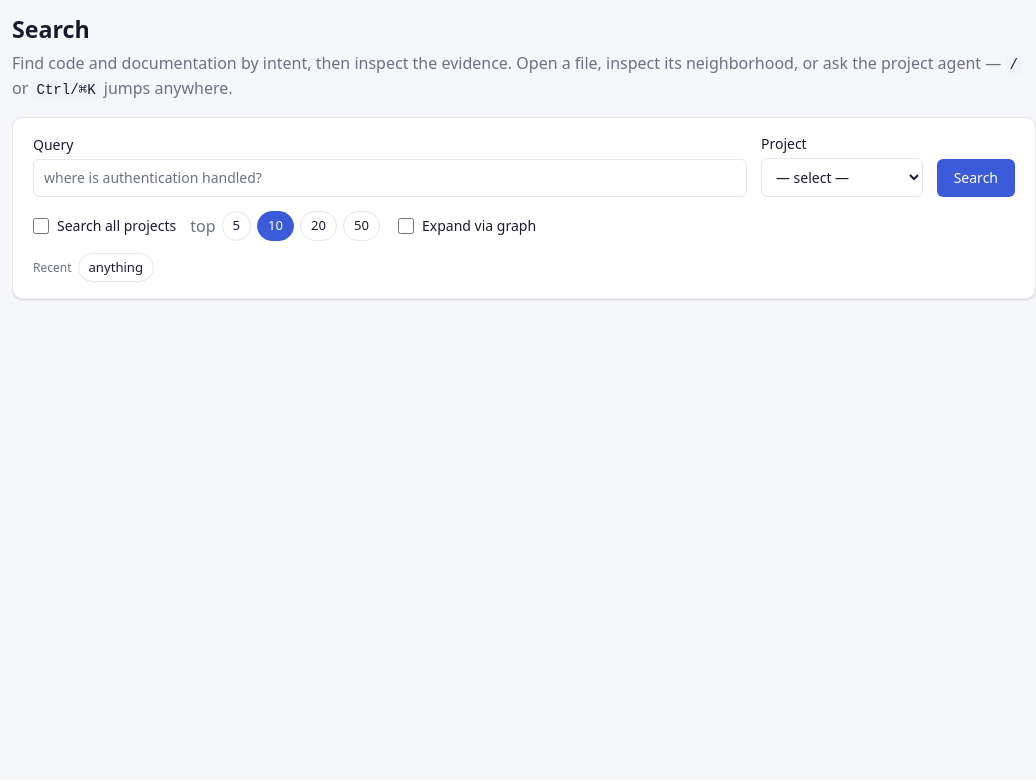
SearchPage degraded badge › keeps the existing keyword-fallback alert when only fallback=true
The image size is (1036, 780).
In the field with placeholder "where is authentication handled?": (390, 178) 33,159 -> 747,197, type "anything"
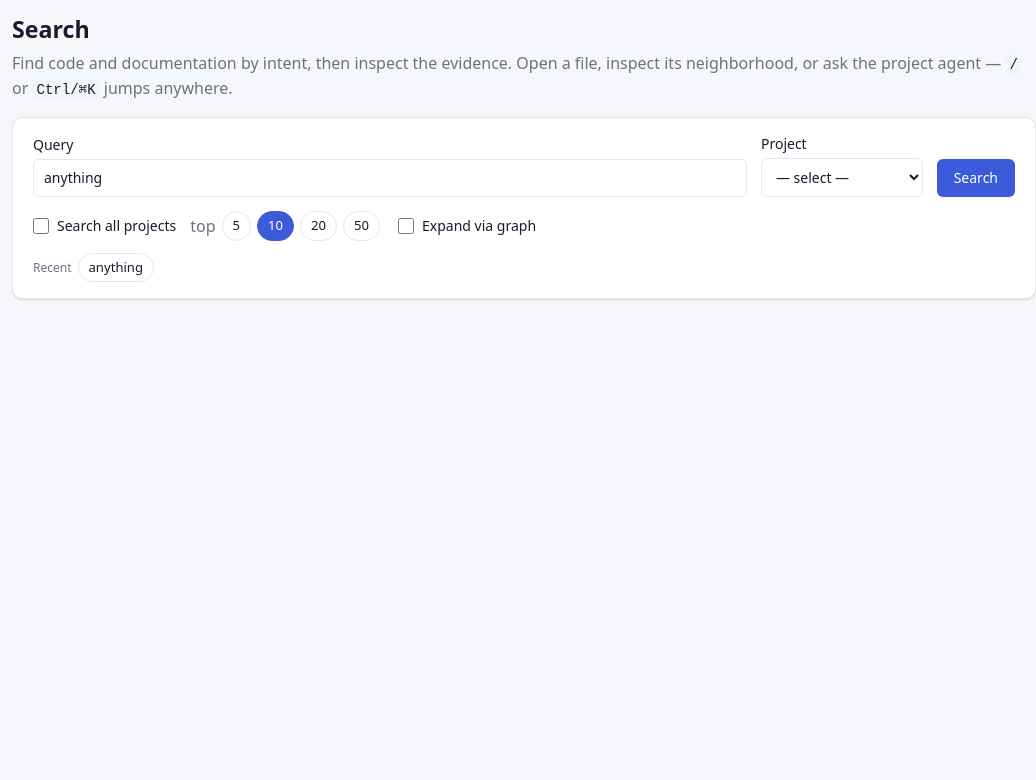
Click the button "Search": click(976, 178) 937,159 -> 1015,197
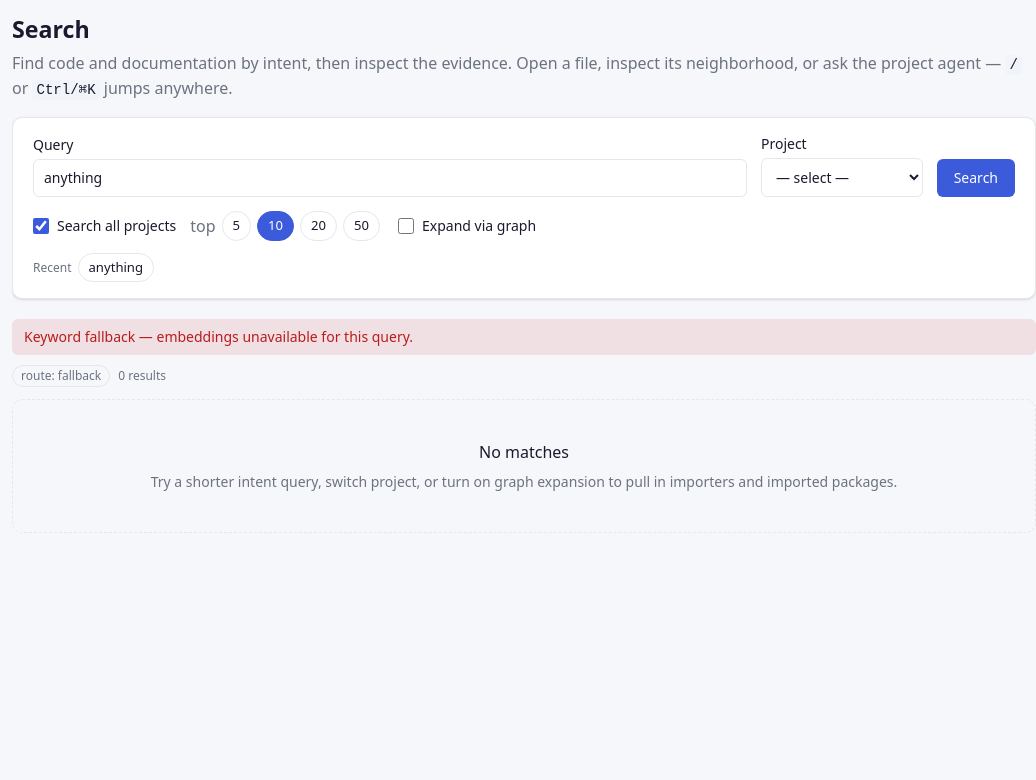
Check: the text "No matches" is shown, box 479,440 -> 569,464
Check: the message reads "Keyword fallback — embeddings unavailable for this query.", box 24,327 -> 413,346
